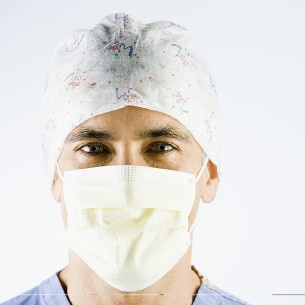Mask: (53, 118, 226, 292)
